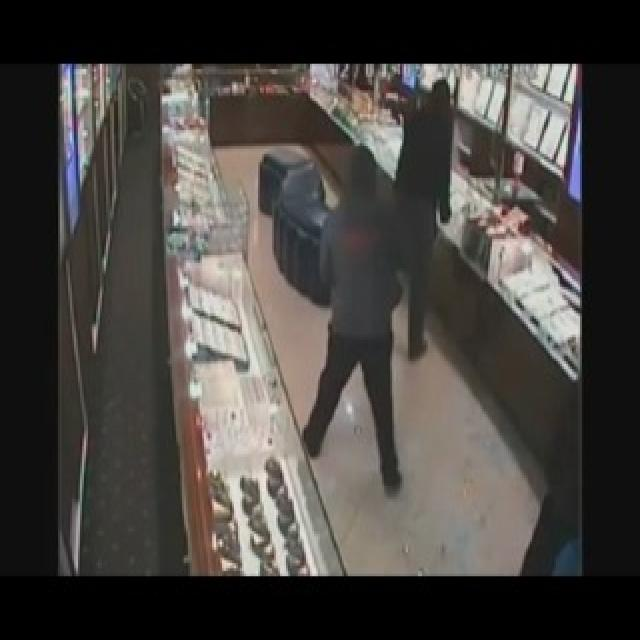thief: (319, 106, 476, 310)
